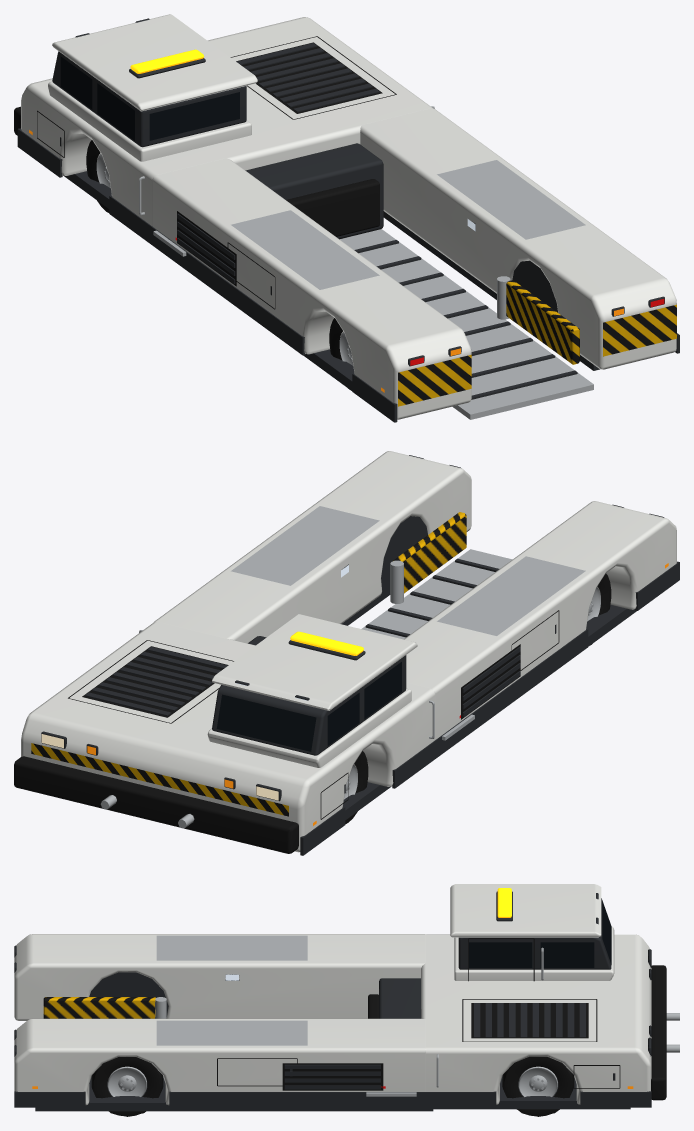
File: pushback_tug.glb
3 renders of one model, top to bottom at view 1: azimuth 30°, elevation 25°; view 2: azimuth 150°, elevation 25°; view 3: azimuth 270°, elevation 25°, orthographic. The views are drawn at different scales.
Visible parts, largest first — view 1: Body, Wheels; view 2: Body, Wheels; view 3: Body, Wheels.
Part boxes in pixels (x1=…): Body: x1=14, y1=14, x2=679, y2=422; Wheels: x1=86, y1=140, x2=353, y2=389; Body: x1=14, y1=451, x2=679, y2=855; Wheels: x1=344, y1=573, x2=611, y2=824; Body: x1=14, y1=884, x2=679, y2=1111; Wheels: x1=91, y1=1056, x2=573, y2=1116.
Size of what is drawn, in the model's own units: 3.45 by 1.77 by 7.94.
8 materials, 2 textured.
